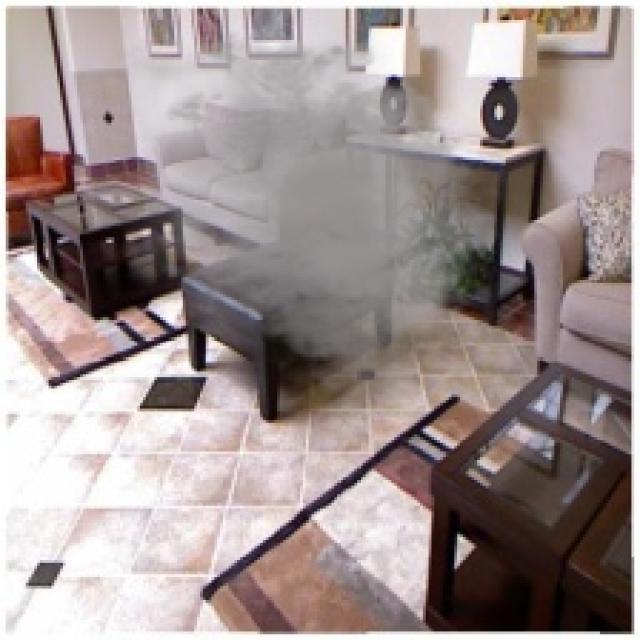Smoke: (102, 11, 512, 408)
